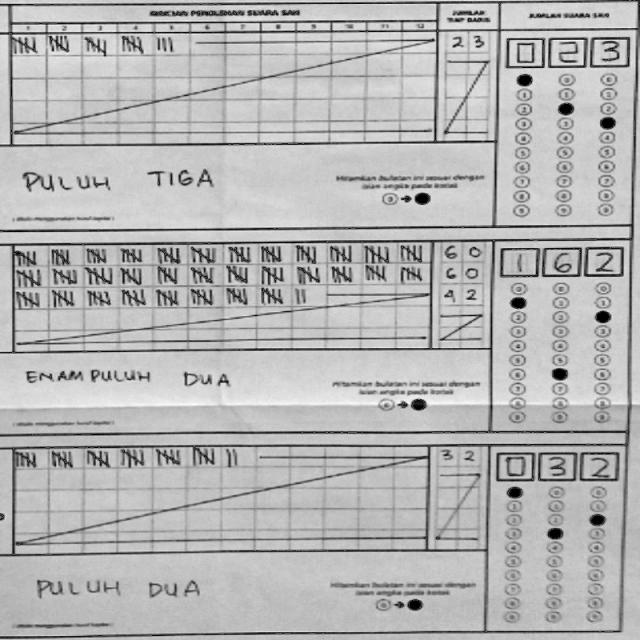Suara: (502, 30, 631, 70), (492, 446, 620, 486), (494, 240, 625, 276)
